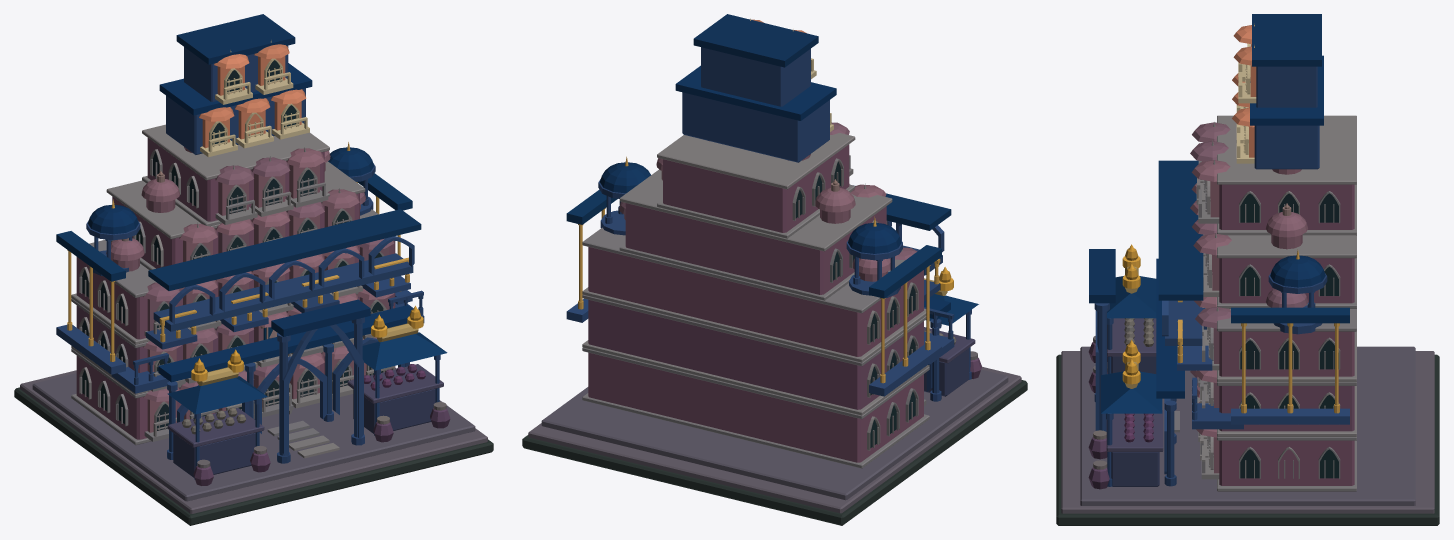
3 views of the same model, side by side, from view 1: azimuth 30°, elevation 25°; view 2: azimuth 150°, elevation 25°; view 3: azimuth 270°, elevation 25° (orthographic). The views are drawn at different scales.
Parts seen in each view (by area): view 1: market_L11_0, market_L11_1; view 2: market_L11_0, market_L11_1; view 3: market_L11_0, market_L11_1.
Boxes of the visible parts, box(x1,y1,x2,y2) form: market_L11_0: box(14, 14, 493, 525); market_L11_1: box(67, 142, 423, 381); market_L11_0: box(522, 14, 1027, 525); market_L11_1: box(578, 156, 953, 383); market_L11_0: box(1056, 14, 1439, 525); market_L11_1: box(1122, 203, 1339, 413).
Size of the model in its own units: 5.6 by 6.64 by 5.6.
